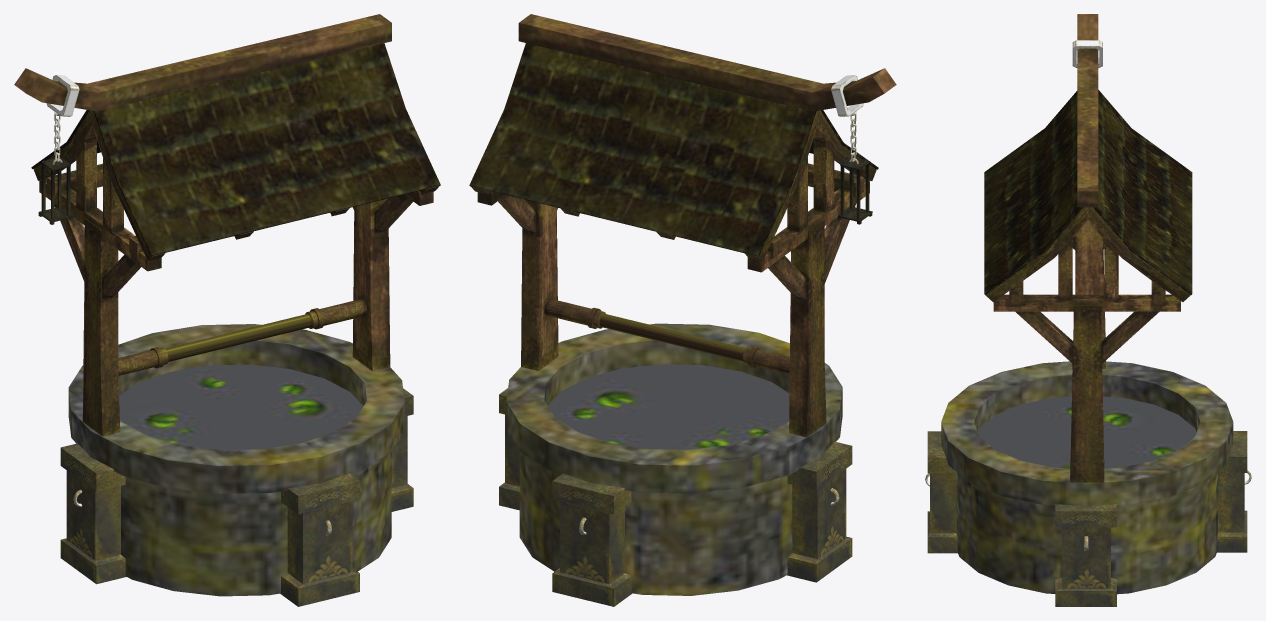
File: jp_stone_well.glb
3 views of the same model, side by side, from view 1: azimuth 30°, elevation 25°; view 2: azimuth 150°, elevation 25°; view 3: azimuth 270°, elevation 25° (orthographic). The views are drawn at different scales.
Parts seen in each view (by area): view 1: Well_Upload; view 2: Well_Upload; view 3: Well_Upload.
Boxes of the visible parts, x1,y1,x2,y2 form: Well_Upload: (14,14,440,606); Well_Upload: (469,14,896,606); Well_Upload: (925,14,1251,606).
Size of the model in its own units: 1.71 by 2.2 by 1.48.
Materials: 1 (1 with a texture image).
